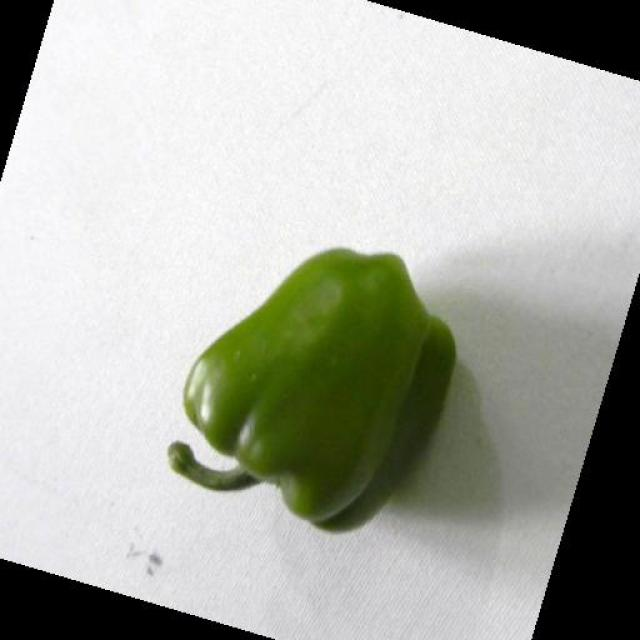Fresh_Capsicum: (177, 276, 432, 519)
